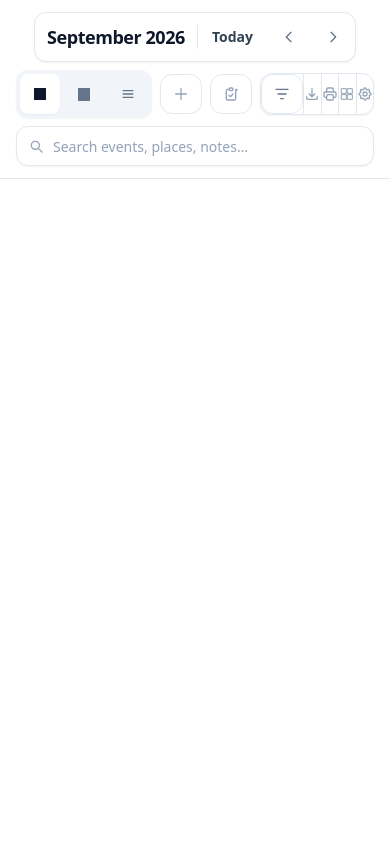
Scenario: CalendarToolbar — by person is a filter inside the Filters sheet (#127, mark 1.11) › puts the rows in the SAME panel as the calendars, not on a surface of its own
Click the button with test id "calendar-filter-trigger". click: click(282, 94)
box: [261,74,303,114]
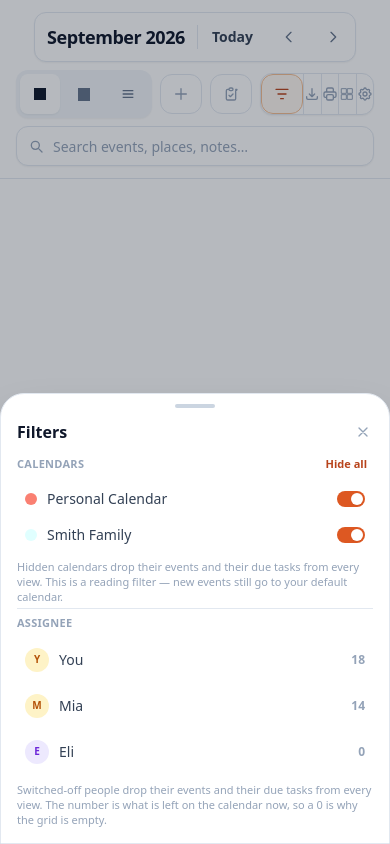
Expected: the number of dialogs with test id "calendar-filter-panel" is 1, [0,393,389,843]
Expected: the switch labelled "Smith Family" is shown, [17,517,373,553]
Expected: the button with aria-label "Mia," is shown, [17,684,373,728]
